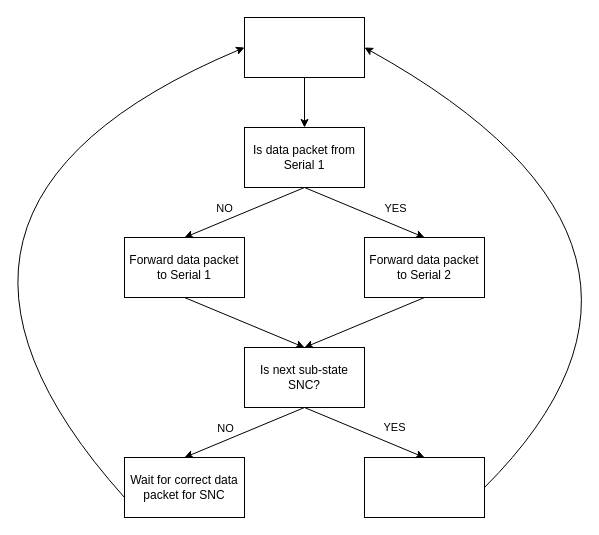
The diagram is 599 pixels wide and 535 high, and some of its shapes have lost their labels. Each missing label, with the centre of its shape:
"Incoming packet from Serial 1/ Serial 2" belongs at (304,47).
"Respond Accordingly" belongs at (424,487).
